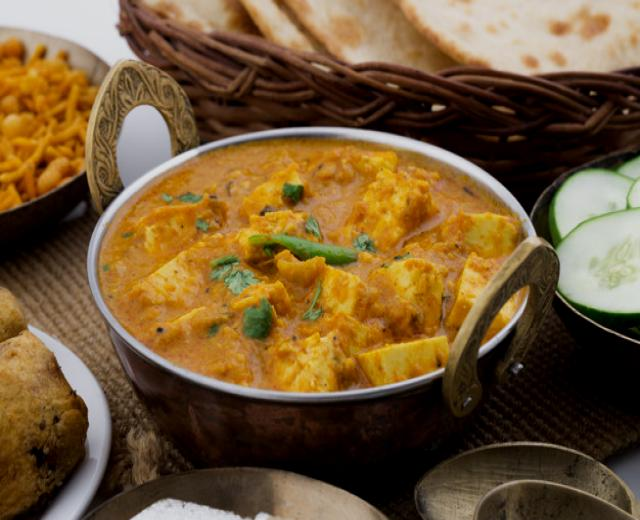kadai paneer: (90, 128, 557, 486), (172, 127, 522, 213), (118, 96, 186, 188)
